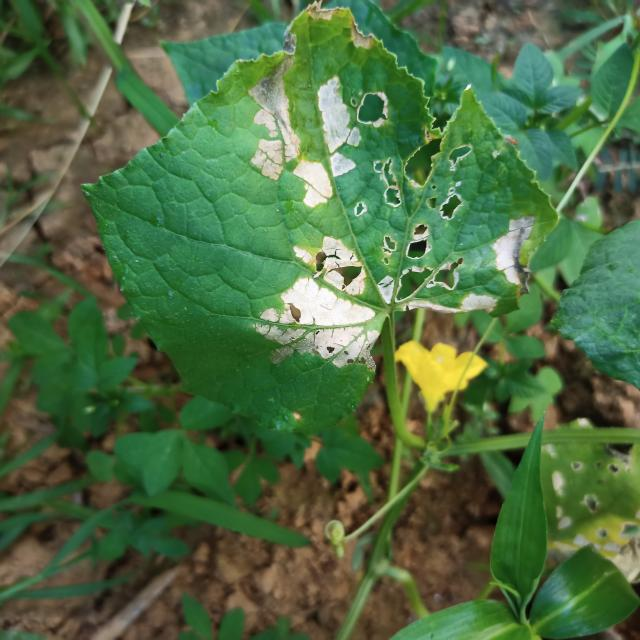disease_cucumber: (240, 13, 490, 226), (244, 216, 534, 380)
